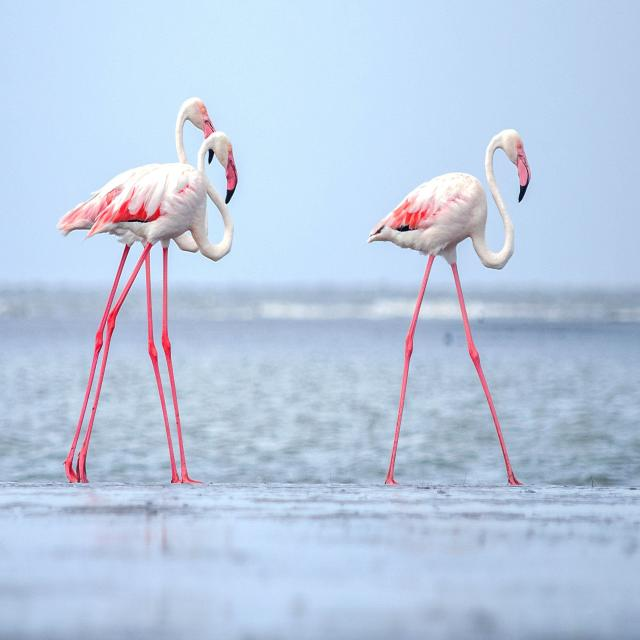Flamingo: (58, 88, 242, 490), (374, 123, 536, 490)
